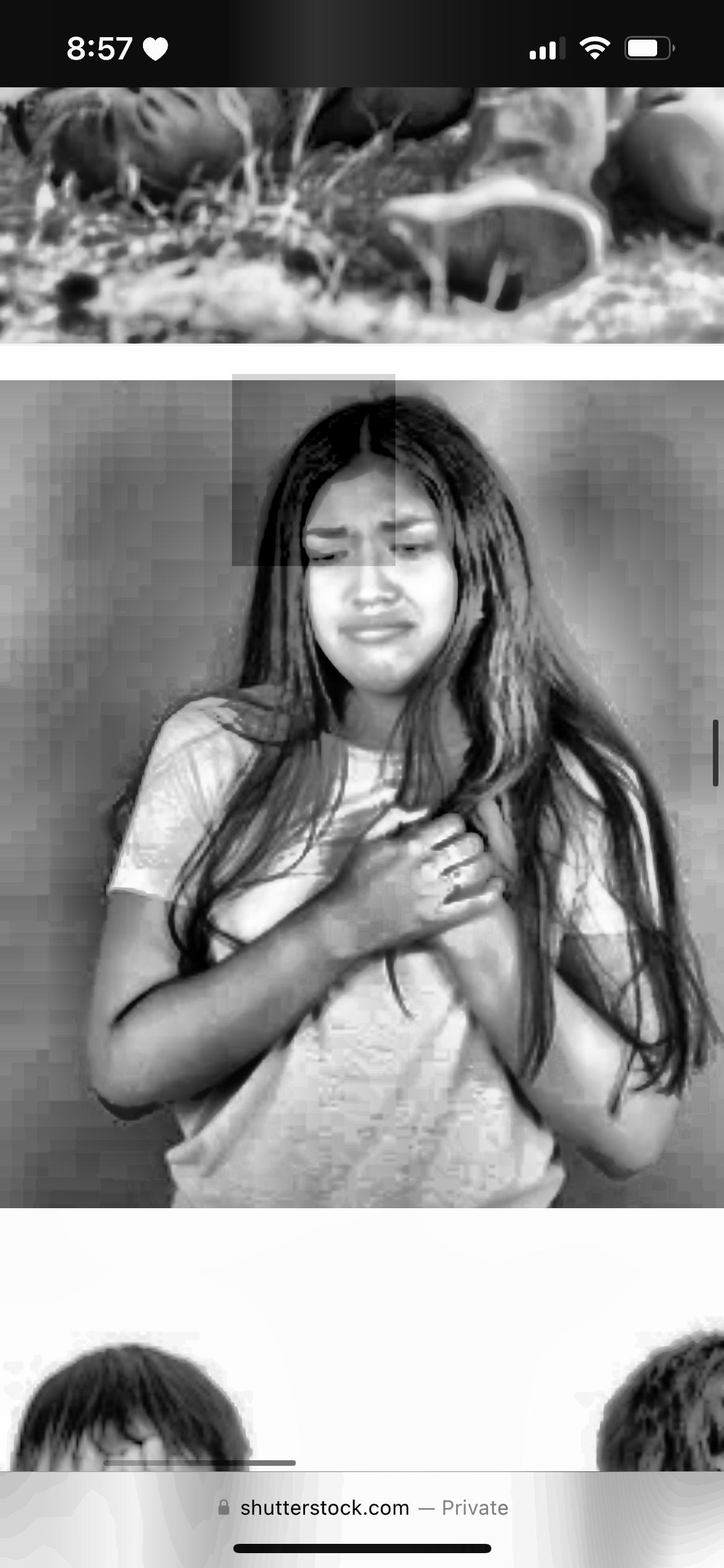sad: (287, 462, 489, 700)
